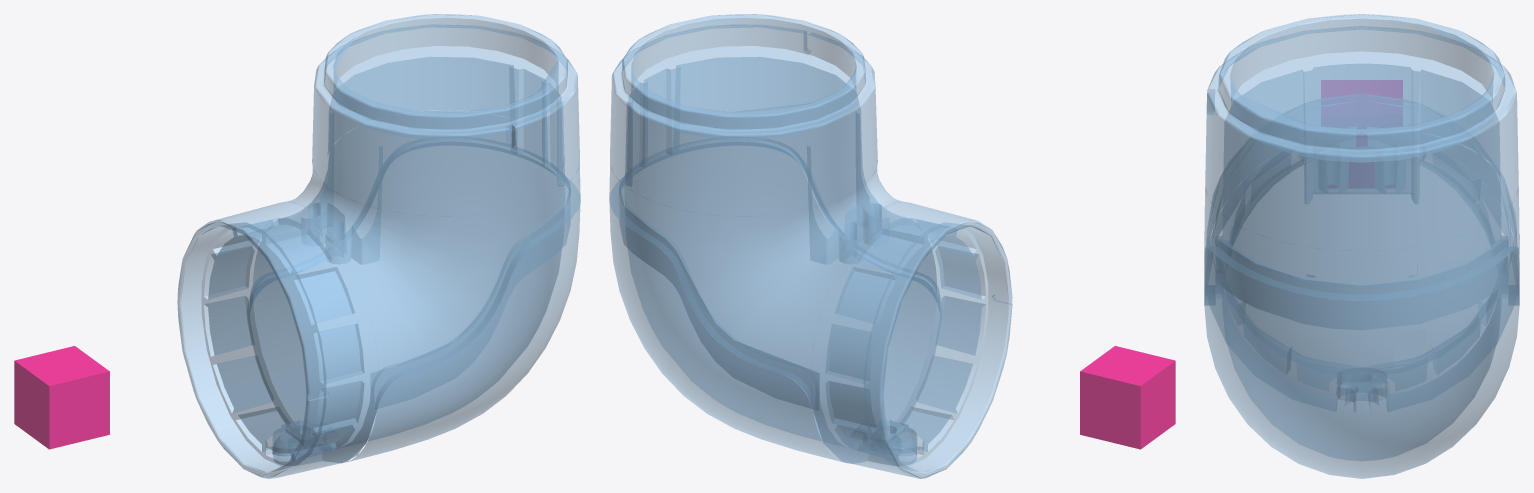
Rendered from MyCobotPi_J4.gltf.
3 renders of one model, left to right at view 1: azimuth 30°, elevation 25°; view 2: azimuth 150°, elevation 25°; view 3: azimuth 270°, elevation 25°, orthographic. The views are drawn at different scales.
Parts seen in each view (by area): view 1: polySurface170, polySurface171, J4_Cube; view 2: polySurface170, polySurface171, J4_Cube; view 3: polySurface170, polySurface171, J4_Cube.
Boxes of the visible parts, x1,y1,x2,y2 form: polySurface170: (177, 14, 580, 478); polySurface171: (249, 140, 580, 465); J4_Cube: (14, 346, 109, 449); polySurface170: (609, 14, 1012, 478); polySurface171: (609, 140, 940, 465); J4_Cube: (1080, 346, 1175, 449); polySurface170: (1204, 14, 1519, 395); polySurface171: (1204, 239, 1519, 478); J4_Cube: (1321, 80, 1402, 138).
Bounding box in the file's own units: 0.0876 × 0.0563 × 0.0386.
